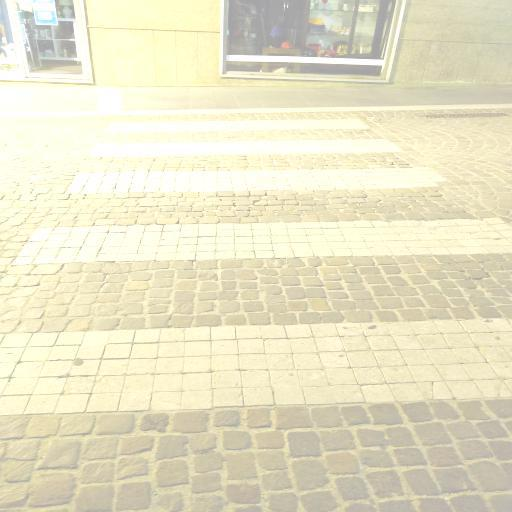crosswalk: (0, 213, 512, 450), (59, 138, 456, 202)
